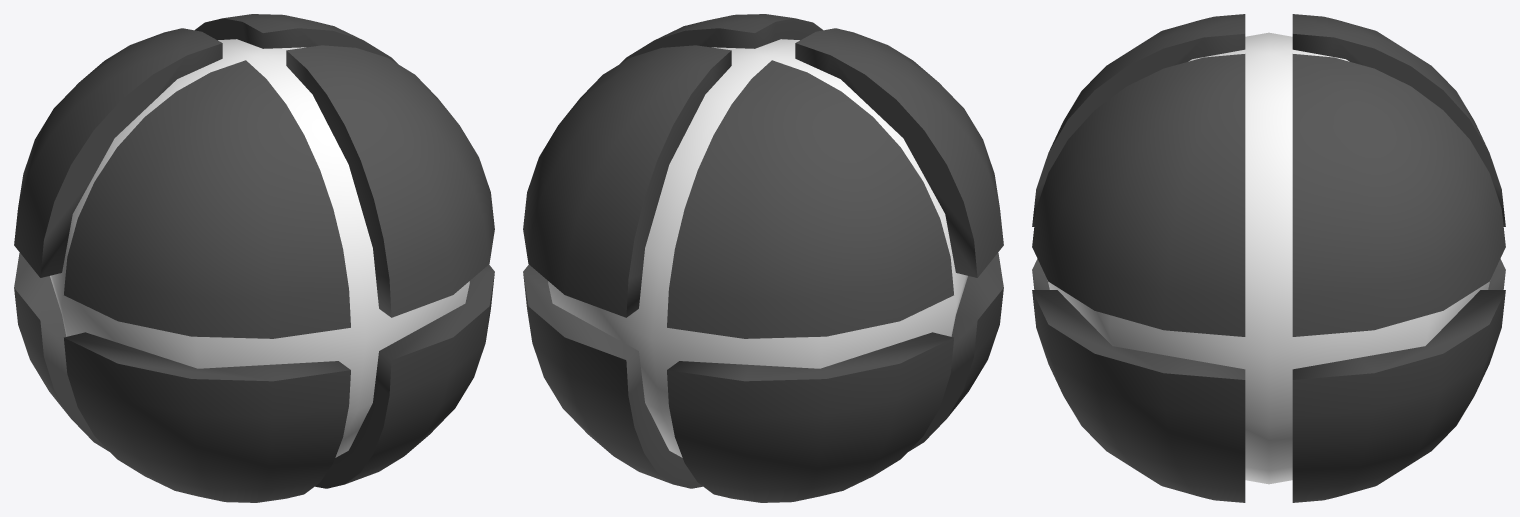
Rendered from stone_bullet.fbx.
The picture shows the model from 3 angles, left to right: view 1: azimuth 30°, elevation 25°; view 2: azimuth 150°, elevation 25°; view 3: azimuth 270°, elevation 25°; orthographic projection.
Visible parts, largest first — view 1: Mesh; view 2: Mesh; view 3: Mesh.
Boxes of the visible parts, <box> form: Mesh: <box>14,14,494,502</box>; Mesh: <box>523,14,1003,502</box>; Mesh: <box>1032,14,1505,502</box>.
Size of the model in its own units: 1 by 1 by 1.
